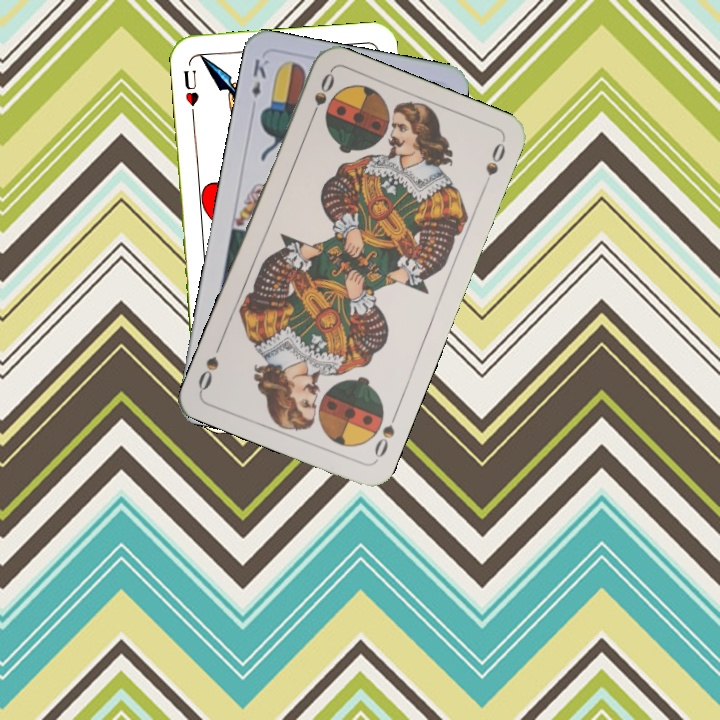EK: (247, 54, 271, 100)
HU: (179, 65, 201, 109)
SO: (305, 68, 337, 125), (370, 407, 401, 464)
